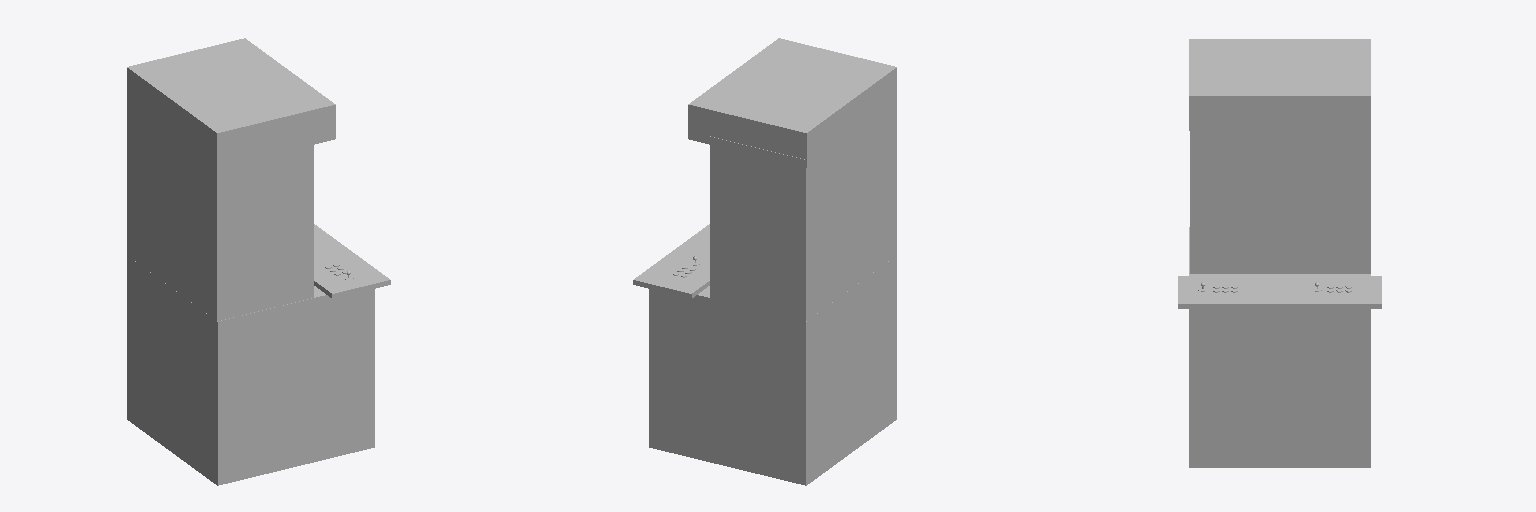
The model's file is arcade.obj.
The picture shows the model from 3 angles: view 1: azimuth 30°, elevation 25°; view 2: azimuth 150°, elevation 25°; view 3: azimuth 270°, elevation 25°; orthographic projection.
Parts seen in each view (by area): view 1: Arcade_Base_Cube.001, Arcade_Base.001_Cube.002, Arcade_Base.002_Cube.003, Control_Panel_Cube.004; view 2: Arcade_Base_Cube.001, Arcade_Base.001_Cube.002, Arcade_Base.002_Cube.003, Control_Panel_Cube.004; view 3: Arcade_Base_Cube.001, Arcade_Base.001_Cube.002, Arcade_Base.002_Cube.003, Control_Panel_Cube.004.
Boxes of the visible parts, <box> form: Arcade_Base_Cube.001: <box>127,256,374,485</box>; Arcade_Base.001_Cube.002: <box>127,102,313,320</box>; Arcade_Base.002_Cube.003: <box>127,38,335,167</box>; Control_Panel_Cube.004: <box>314,224,390,298</box>; Arcade_Base_Cube.001: <box>649,256,896,485</box>; Arcade_Base.001_Cube.002: <box>710,102,896,323</box>; Arcade_Base.002_Cube.003: <box>688,38,896,167</box>; Control_Panel_Cube.004: <box>633,224,709,298</box>; Arcade_Base_Cube.001: <box>1189,227,1370,467</box>; Arcade_Base.001_Cube.002: <box>1190,131,1370,273</box>; Arcade_Base.002_Cube.003: <box>1189,39,1370,130</box>; Control_Panel_Cube.004: <box>1178,276,1381,308</box>.
Size of the model in its own units: 2.14 by 4.29 by 2.24.